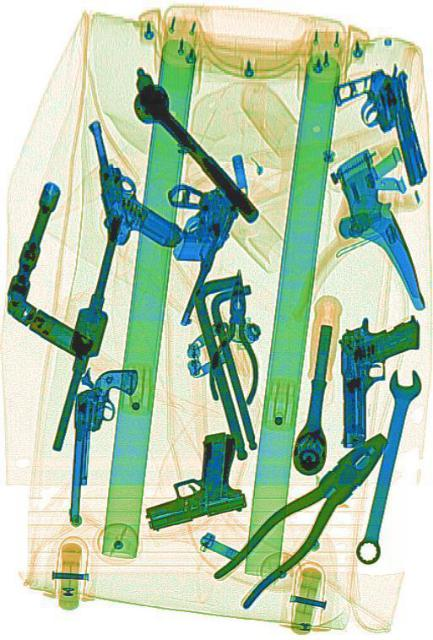Gun: (81, 95, 183, 268), (151, 159, 246, 331), (331, 54, 430, 208), (65, 362, 137, 530), (135, 426, 244, 530), (338, 312, 419, 446)
Pliers: (210, 414, 397, 620), (206, 267, 261, 405)
Wrench: (348, 361, 422, 571)
